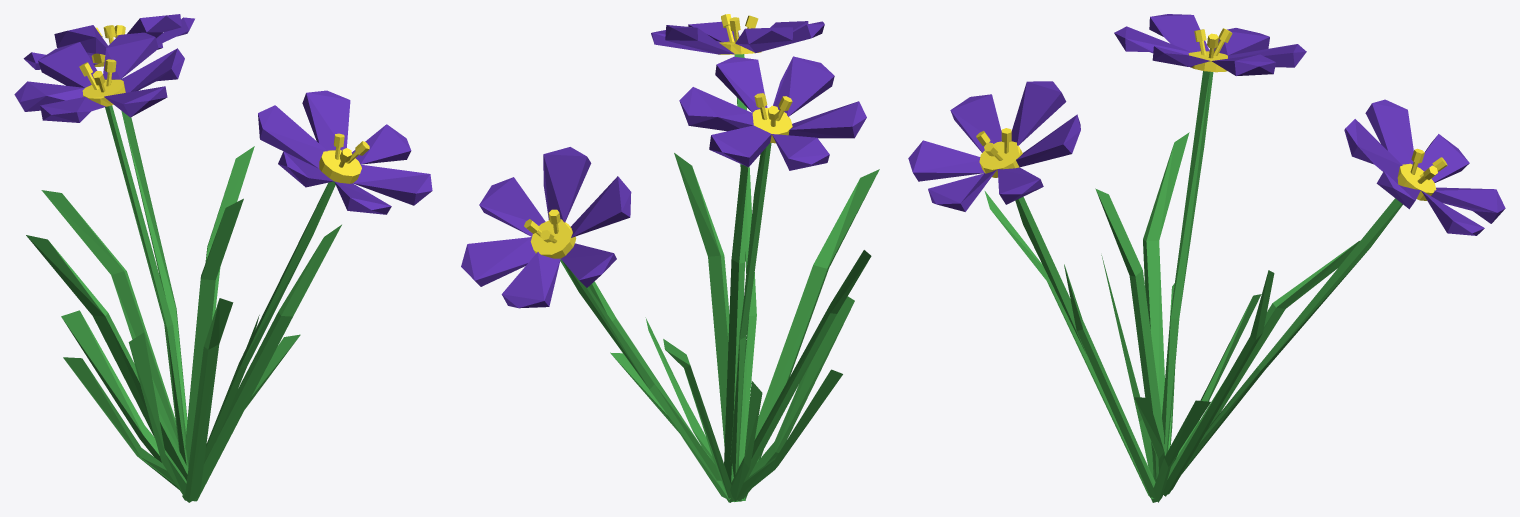
File: blueEyed_lod1.glb
The picture shows the model from 3 angles, left to right: view 1: azimuth 30°, elevation 25°; view 2: azimuth 150°, elevation 25°; view 3: azimuth 270°, elevation 25°; orthographic projection. The views are drawn at different scales.
Visible parts, largest first — view 1: group904756982, group1946222413, group257013575; view 2: group904756982, group1946222413, group257013575; view 3: group904756982, group1946222413, group257013575.
Part boxes in pixels (box(x1,y1,x2,y2)): group904756982: box(26, 78, 341, 502); group1946222413: box(14, 14, 432, 214); group257013575: box(79, 25, 369, 183); group904756982: box(560, 54, 879, 502); group1946222413: box(461, 21, 866, 308); group257013575: box(524, 14, 792, 258); group904756982: box(984, 71, 1402, 502); group1946222413: box(908, 14, 1505, 235); group257013575: box(976, 28, 1447, 200).
Size of the model in its own units: 0.3171 by 0.4474 by 0.5422.
